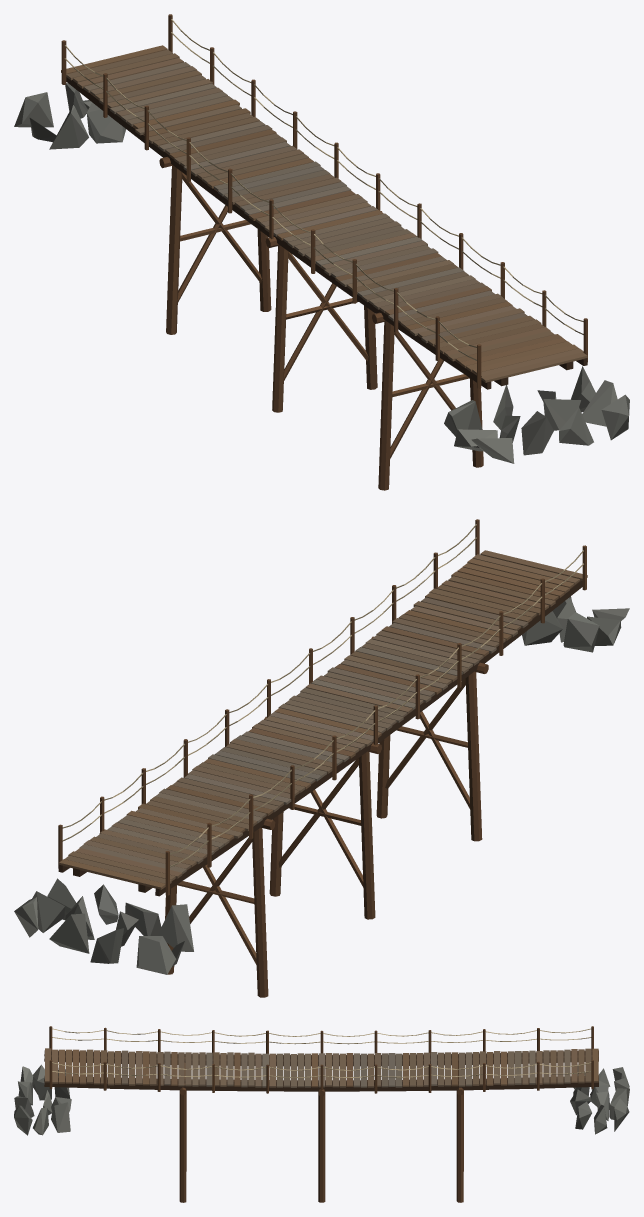
File: plank_bridge.glb
The picture shows the model from 3 angles, top to bottom: view 1: azimuth 30°, elevation 25°; view 2: azimuth 150°, elevation 25°; view 3: azimuth 270°, elevation 25°; orthographic projection. The views are drawn at different scales.
Parts seen in each view (by area): view 1: plank_bridge; view 2: plank_bridge; view 3: plank_bridge.
Part boxes in pixels (bbox=[...]): plank_bridge: bbox=[14, 14, 629, 490]; plank_bridge: bbox=[14, 519, 629, 997]; plank_bridge: bbox=[14, 1026, 629, 1202].
Bounding box in the file's own units: 5.73 × 7.4 × 28.88.
